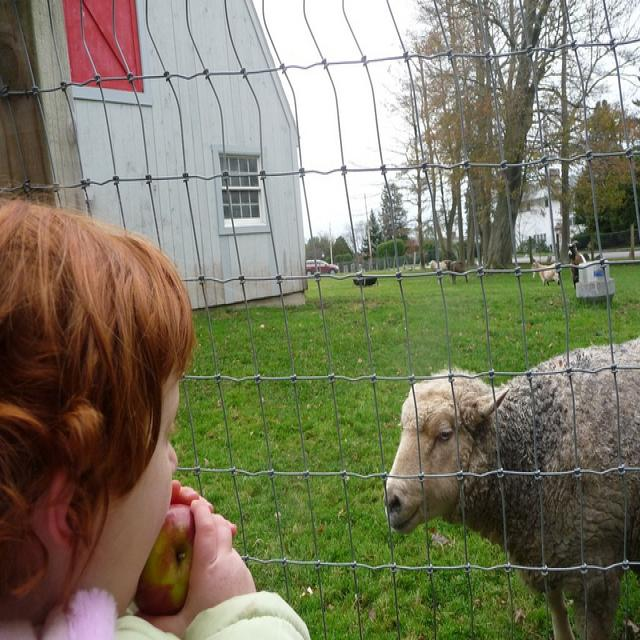Vehicle: (305, 260, 339, 277)
